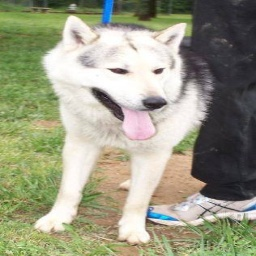dog: (35, 14, 214, 242)
